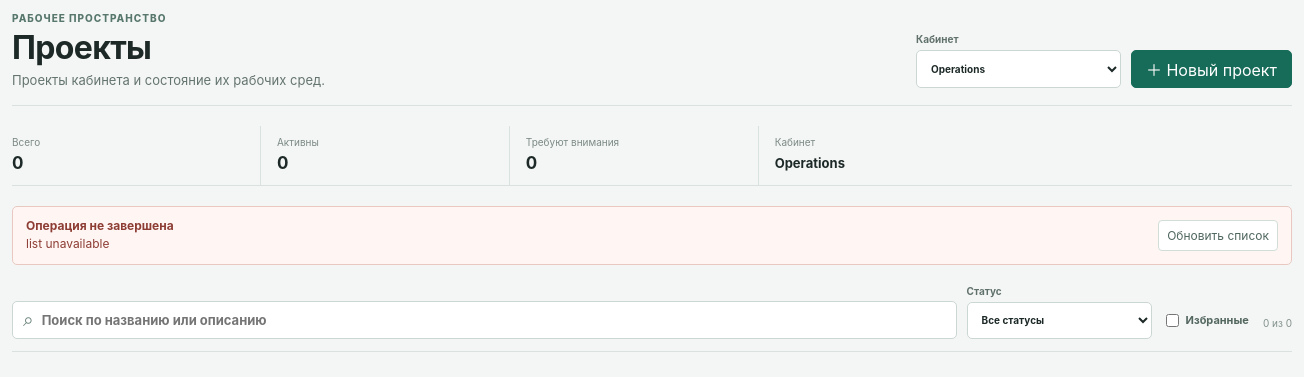
ProjectsOverview acceptance surface › retries a failed project list without retaining stale rows
The image size is (1304, 377).
Expected: the text "Market study" is not shown
Click the button "Обновить список" at (1218, 236), box [1158, 220, 1278, 251]
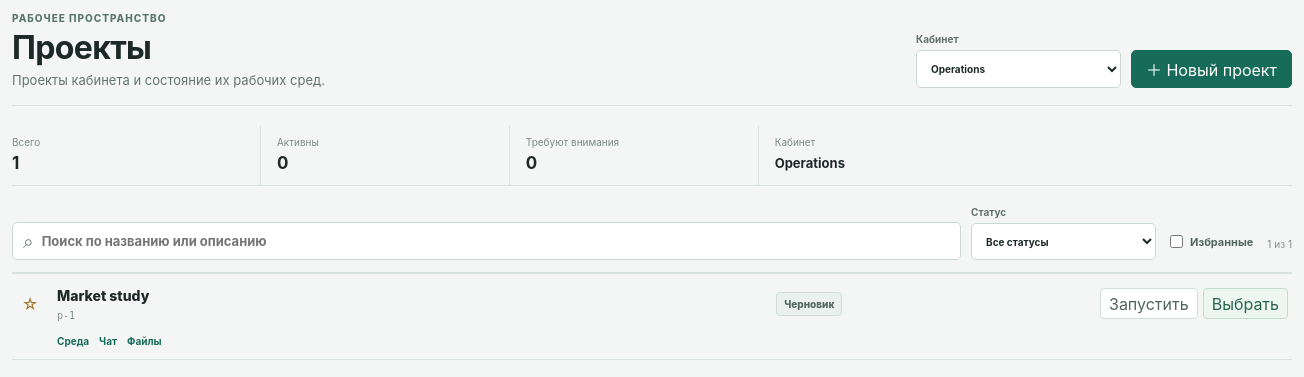
Result: the text "Market study" is shown at [57, 287, 149, 304]
